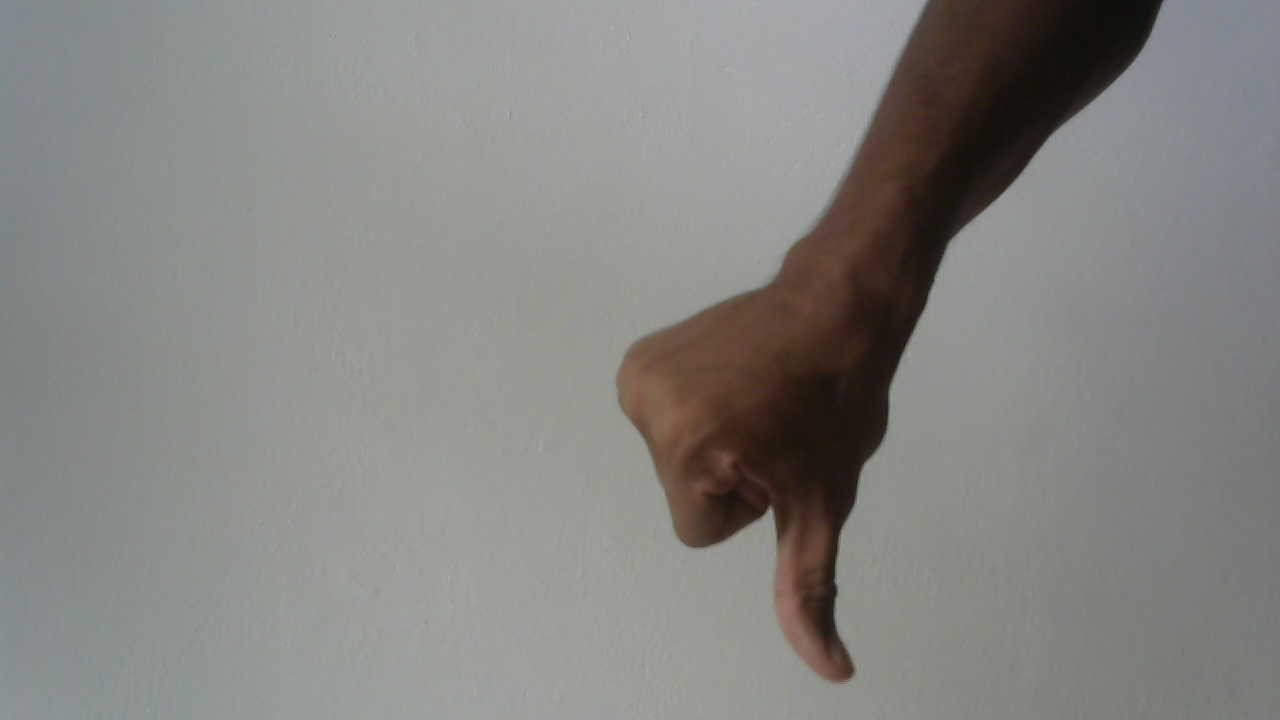thumbsdown: (600, 250, 956, 696)
